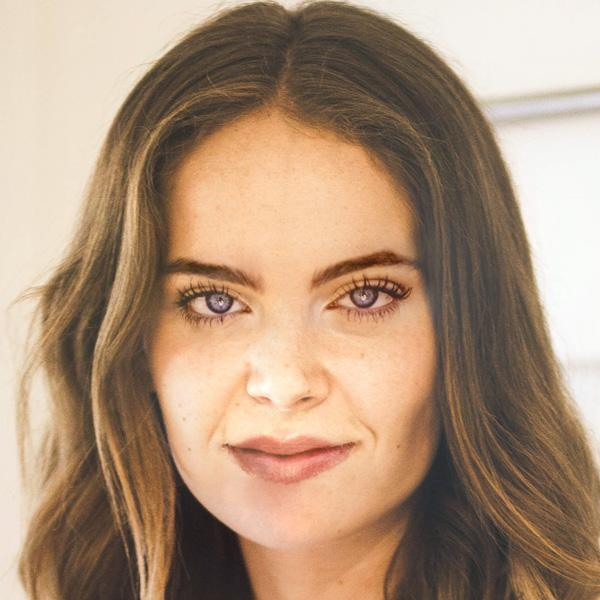Eyes: (318, 271, 415, 331), (165, 278, 265, 334)
